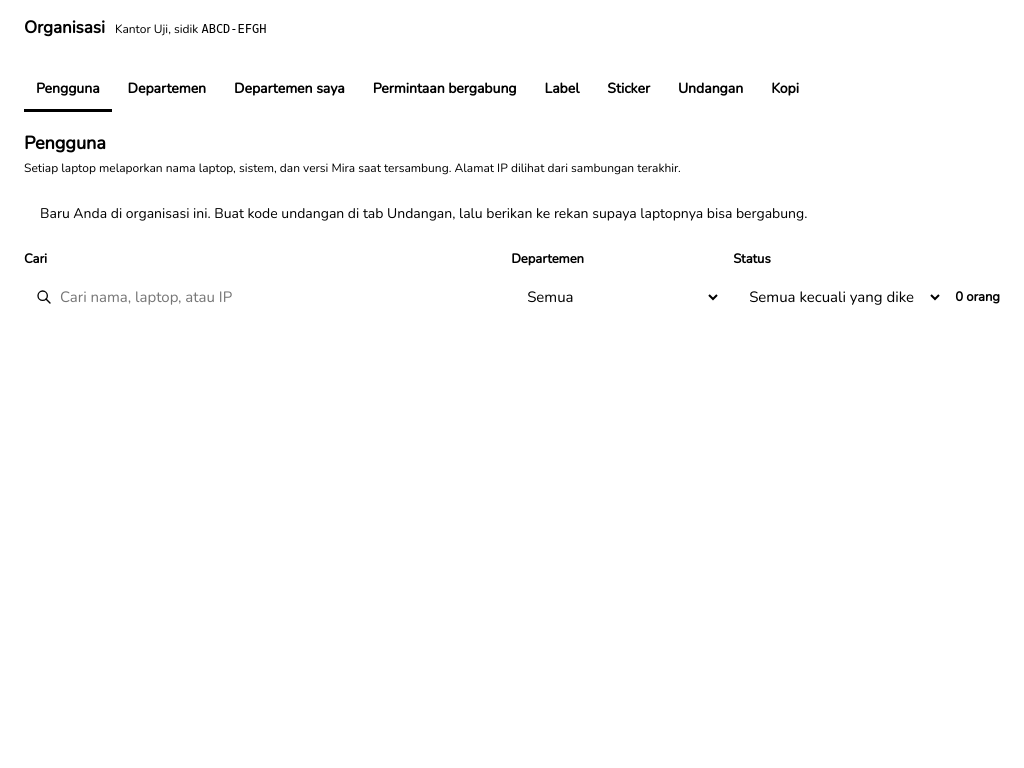
Scenario: Sticker: tab dan keadaan › error menampilkan pesan Rust, Coba lagi memuat ulang
What coordinates should you click on to do the following:
click the button "Sticker"
I would click on:
 (629, 90)
Its box is [595,68,662,112].
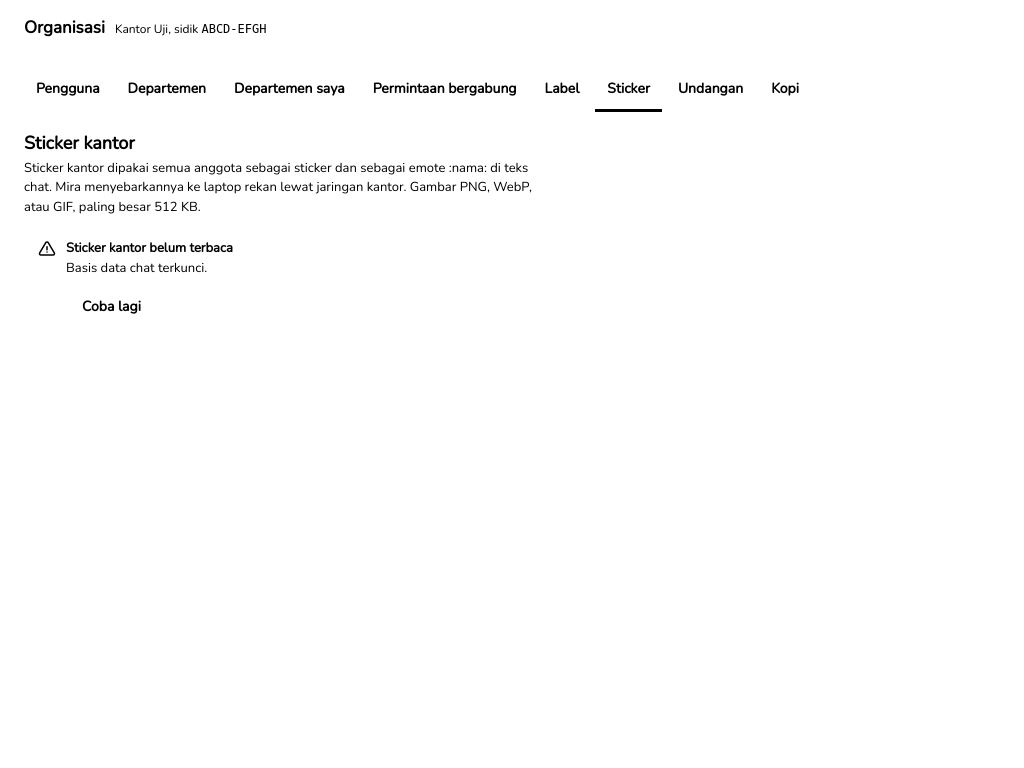
Expected: the text "Sticker kantor belum terbaca" is shown, [66,239,233,258]
Expected: the text "Basis data chat terkunci." is shown, [66,258,207,276]
What coordinates should you click on to do the following:
click the button "Coba lagi"
I would click on:
 (111, 306)
Its box is [66,288,157,325].
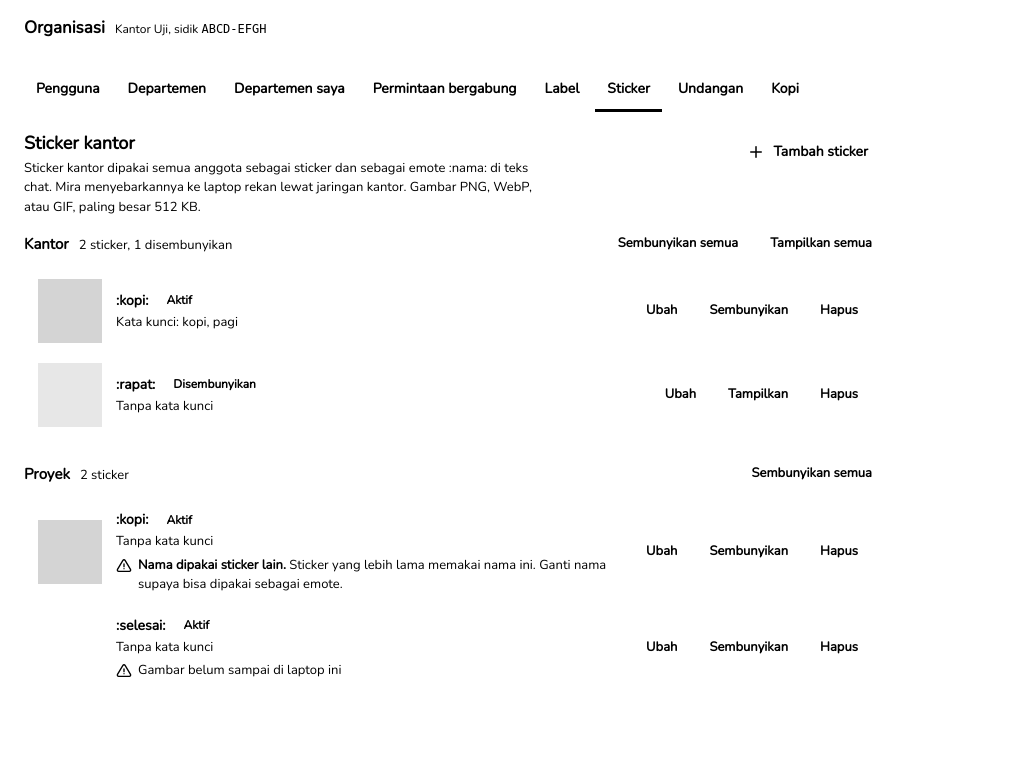
Expected: the heading "Kantor" is shown, [24,233,69,255]
Expected: the message "Sticker kantor belum terbaca Basis data chat terkunci. Coba lagi" is gone
